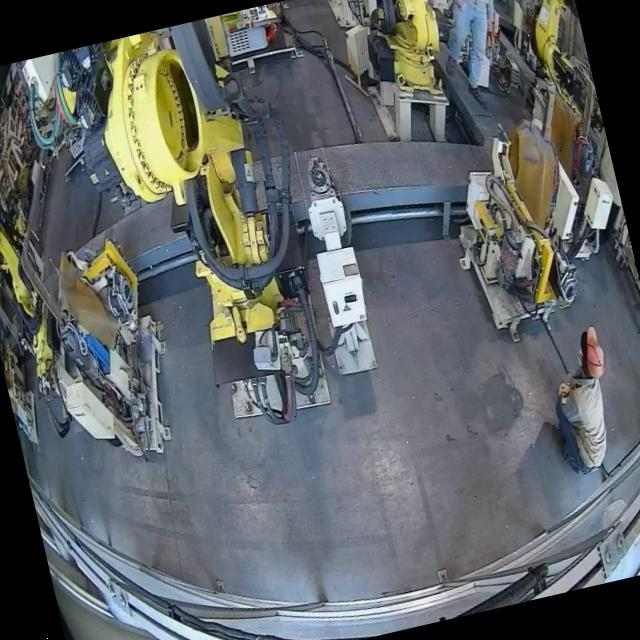Person: (534, 324, 629, 479), (421, 0, 526, 109), (585, 108, 622, 210)
